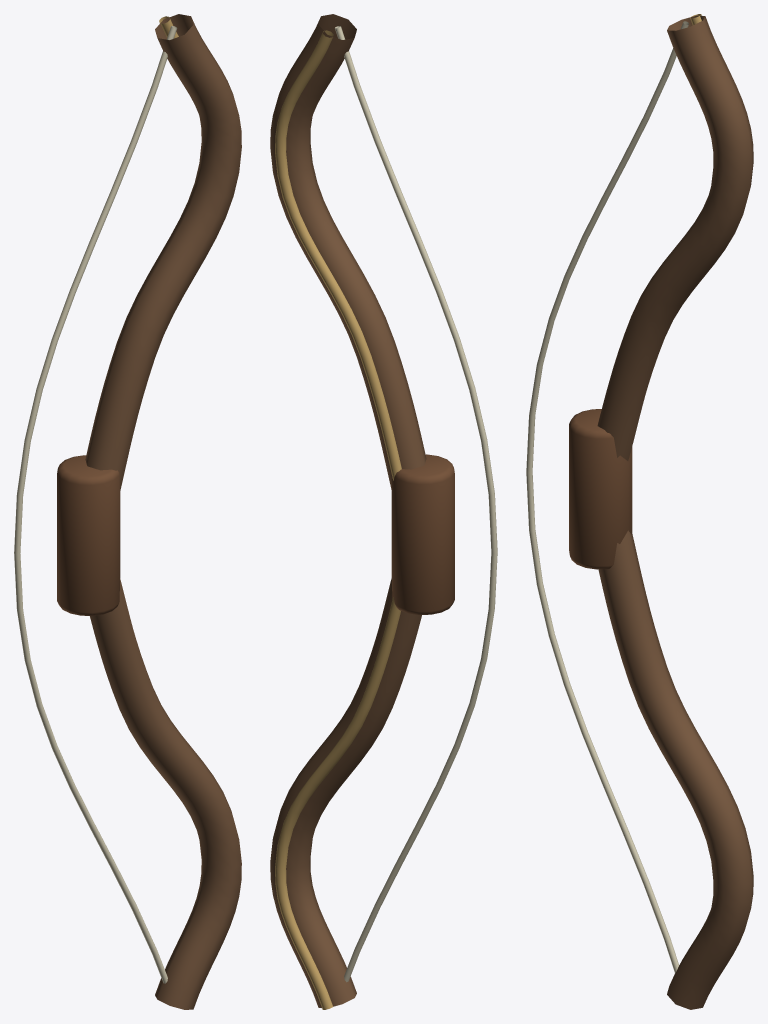
File: woodland_bow.glb
The picture shows the model from 3 angles, left to right: view 1: azimuth 30°, elevation 25°; view 2: azimuth 150°, elevation 25°; view 3: azimuth 330°, elevation 25°; orthographic projection.
Parts seen in each view (by area): view 1: Recurved yew limb.001, Recurved yew limb, Wrapped handle, Bowstring; view 2: Recurved yew limb.001, Recurved yew limb, Wrapped handle, Bowstring, Silver limb inlay.001, Silver limb inlay; view 3: Recurved yew limb, Recurved yew limb.001, Wrapped handle, Bowstring.
Boxes of the visible parts, <box> form: Recurved yew limb.001: <box>85,14,241,491</box>; Recurved yew limb: <box>90,578,241,1009</box>; Wrapped handle: <box>57,455,120,615</box>; Bowstring: <box>14,26,177,983</box>; Recurved yew limb.001: <box>270,14,426,490</box>; Recurved yew limb: <box>270,577,421,1007</box>; Wrapped handle: <box>391,454,454,614</box>; Bowstring: <box>335,26,497,982</box>; Silver limb inlay.001: <box>275,30,401,480</box>; Silver limb inlay: <box>275,597,400,1009</box>; Recurved yew limb: <box>598,530,753,1009</box>; Recurved yew limb.001: <box>597,15,753,460</box>; Wrapped handle: <box>569,409,632,569</box>; Bowstring: <box>526,21,688,973</box>.
Size of the model in its own units: 0.474 by 1.99 by 0.116.
